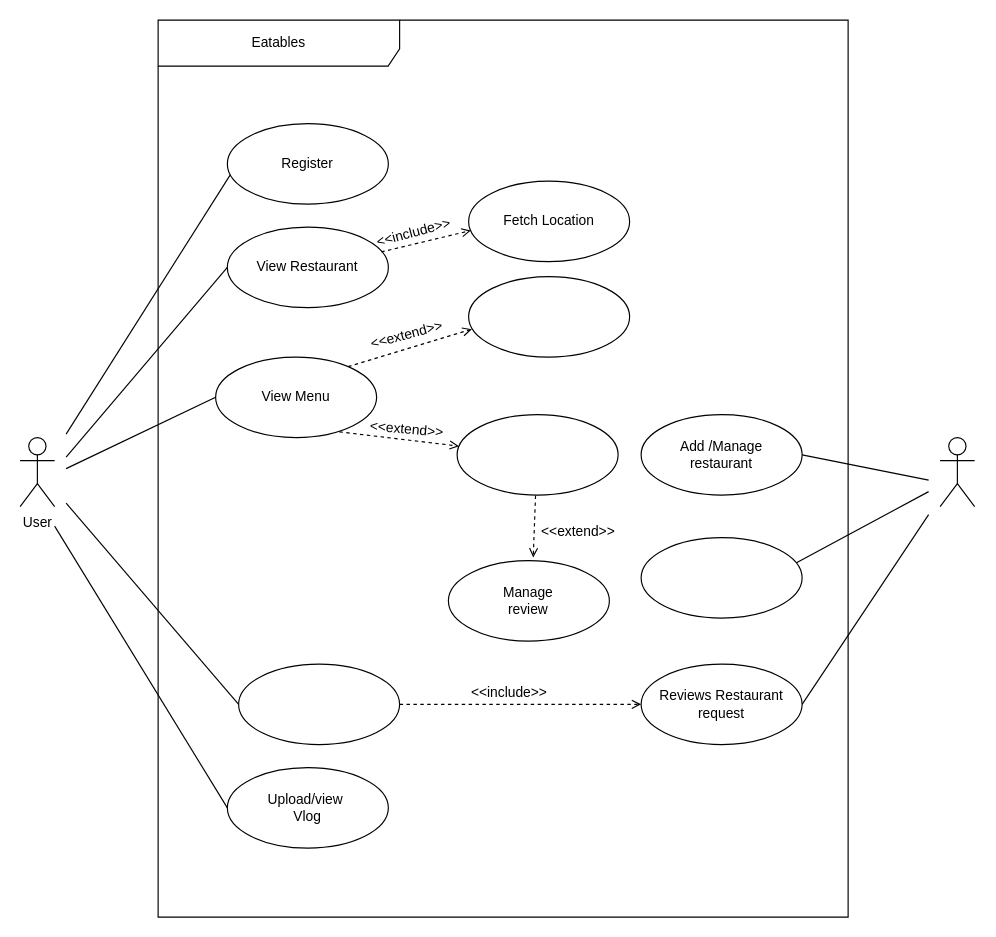
Image size: 996x937. Some labels were removed from this diagram. Each missing label, with the centre of its shape:
Add /Manage items: (721,577)
Add to Favourite: (548,316)
Admin: (957,471)
Submit Restaurant request: (318,704)
Write Review: (537,454)
